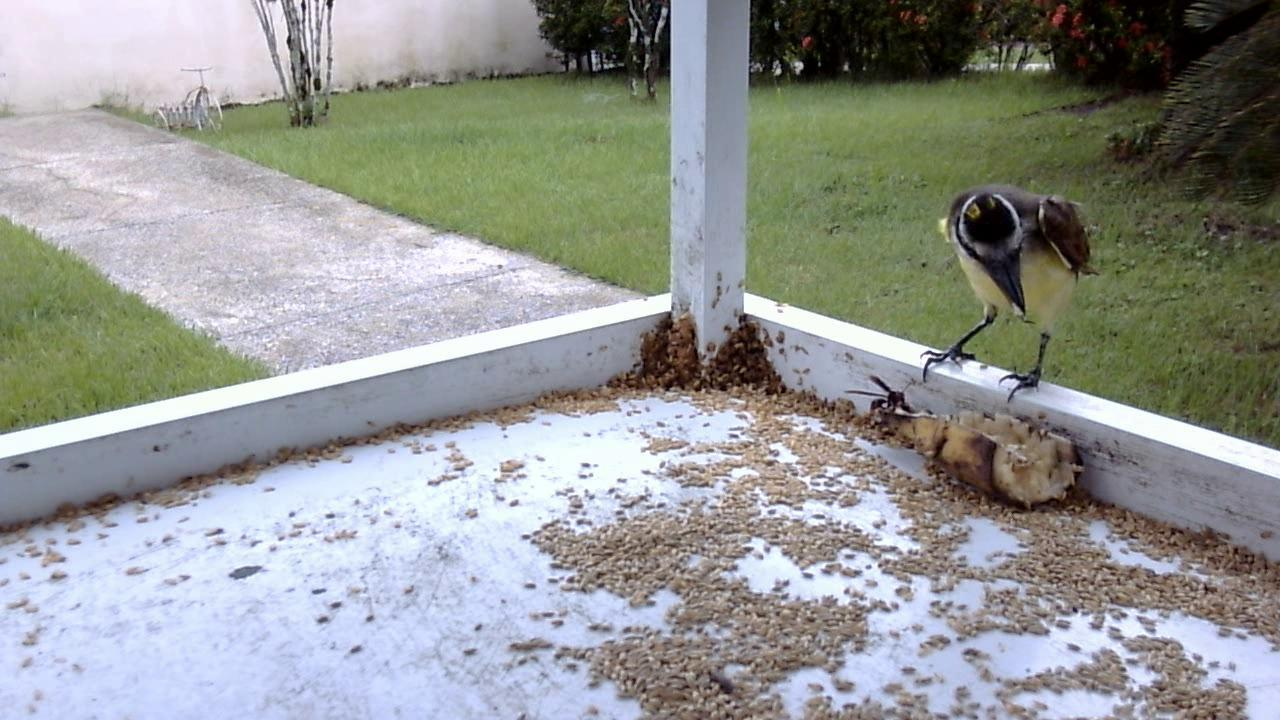bem_te_vi: (914, 173, 1105, 411)
